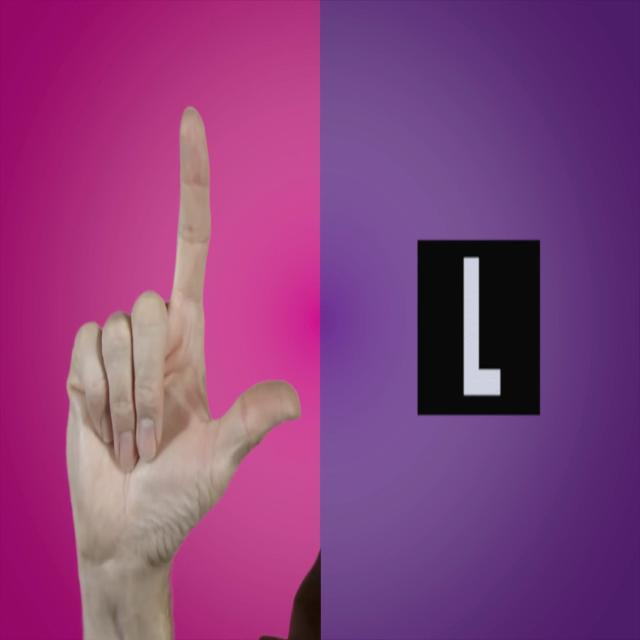L: (37, 79, 306, 640)
